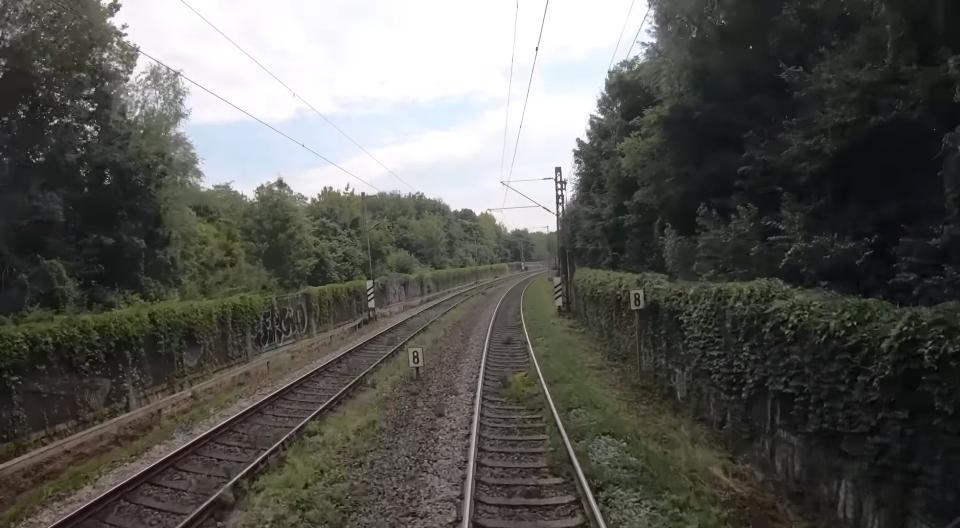Plant: (225, 289, 490, 528), (525, 274, 744, 528), (501, 367, 574, 481), (407, 287, 482, 331), (575, 445, 618, 490), (383, 333, 399, 346), (514, 306, 522, 327), (502, 333, 514, 344)
